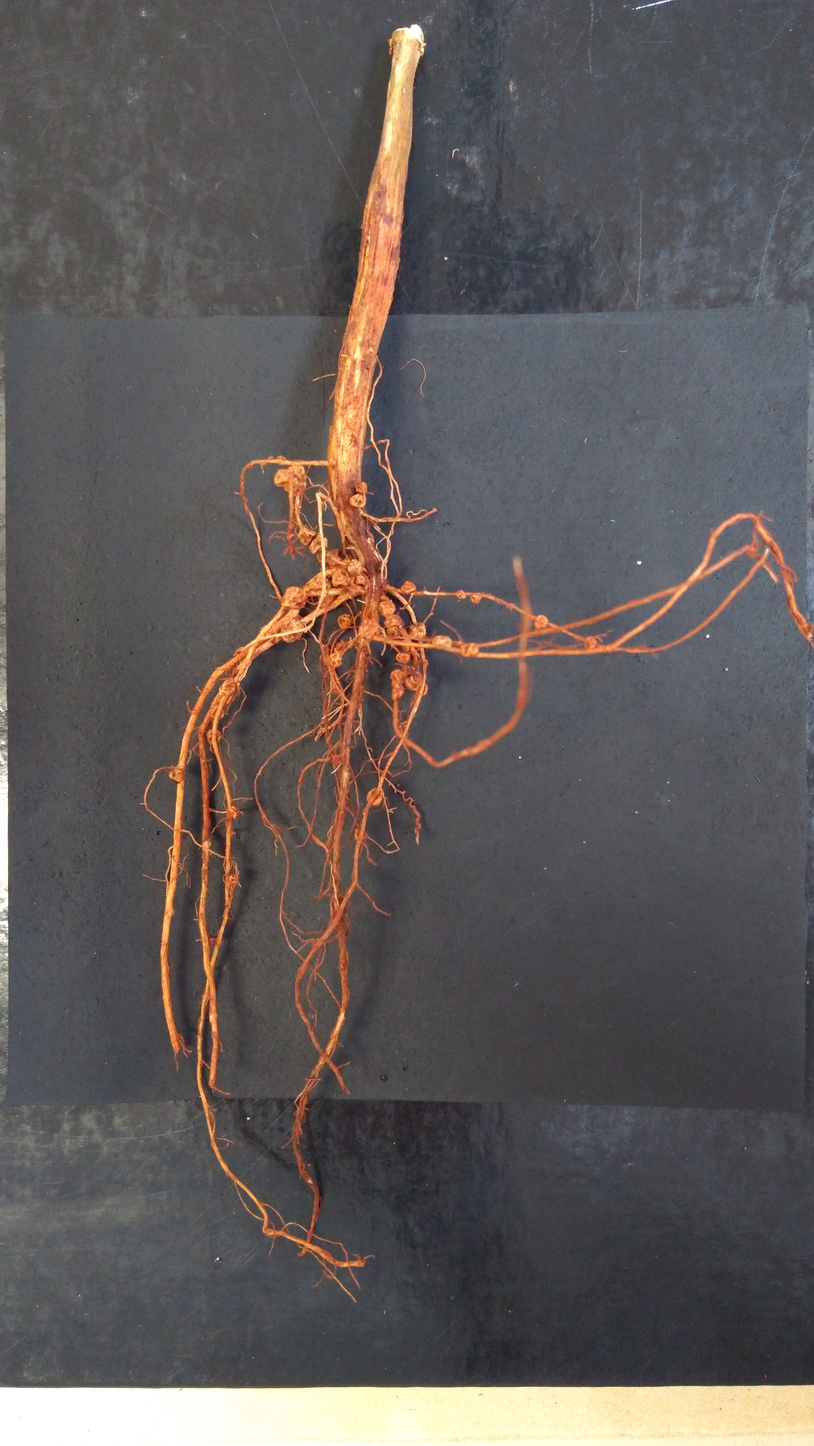nodule: (283, 464, 307, 496), (279, 585, 308, 611), (280, 618, 306, 644), (389, 668, 406, 701), (315, 547, 342, 566), (358, 617, 380, 640), (308, 535, 328, 556), (403, 670, 423, 691), (365, 786, 384, 808), (297, 526, 316, 546), (331, 568, 351, 587), (458, 642, 481, 658), (336, 613, 355, 632), (272, 467, 290, 487), (382, 614, 405, 629), (378, 600, 397, 618), (220, 677, 238, 696), (430, 634, 454, 648), (308, 577, 330, 592), (346, 558, 364, 576), (348, 493, 368, 509), (408, 621, 428, 637), (400, 579, 419, 595), (206, 728, 223, 744), (353, 481, 370, 496), (532, 614, 549, 629), (167, 768, 184, 783), (328, 652, 343, 668), (583, 635, 598, 650), (385, 625, 401, 637), (395, 652, 411, 664), (745, 547, 757, 560), (454, 589, 467, 600), (469, 594, 482, 605), (232, 804, 240, 819), (422, 683, 429, 697), (276, 454, 288, 462), (267, 455, 274, 461)
